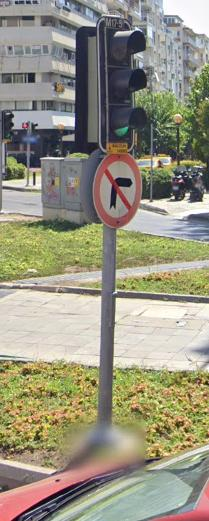greenlight: (98, 14, 144, 151)
rightturnsareforbidden: (96, 153, 139, 227)
